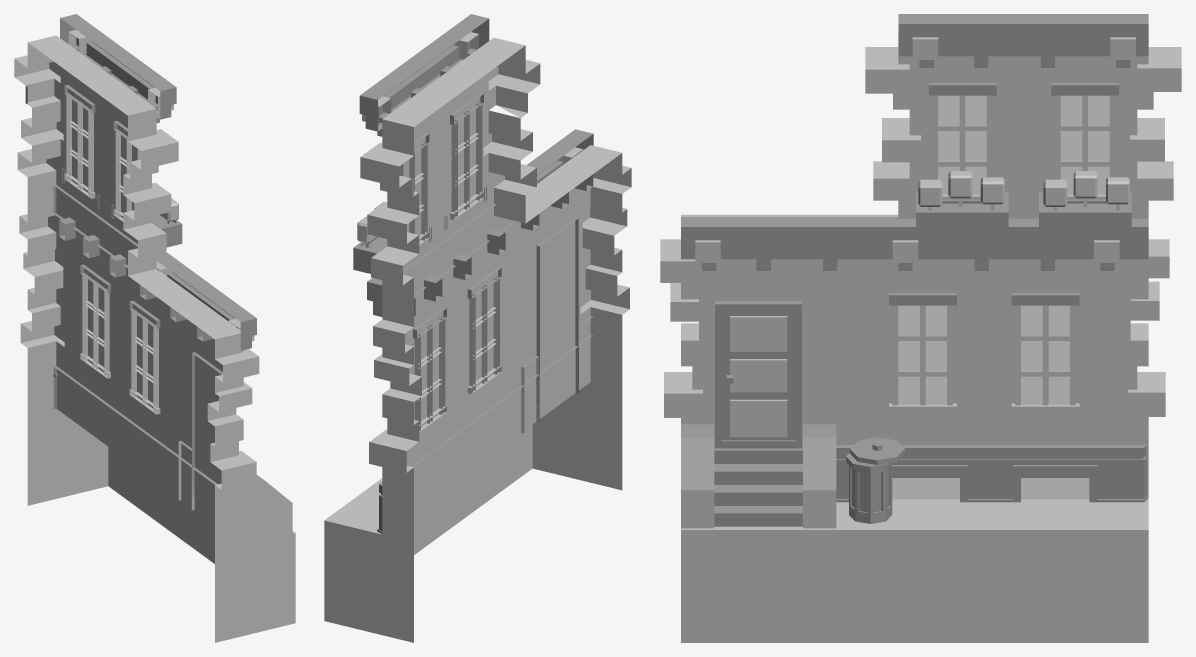
File: road_facade_1.FBX
3 views of the same model, side by side, from view 1: azimuth 30°, elevation 25°; view 2: azimuth 150°, elevation 25°; view 3: azimuth 270°, elevation 25° (orthographic). The views are drawn at different scales.
Visible parts, largest first — view 1: road_facade_1; view 2: road_facade_1; view 3: road_facade_1.
Part boxes in pixels (x1,y1,x2,y2): road_facade_1: [14, 14, 295, 642]; road_facade_1: [324, 14, 631, 642]; road_facade_1: [660, 14, 1181, 642].
Size of the model in its own units: 1.92 by 10.89 by 8.58.
Materials: 1 (1 with a texture image).
